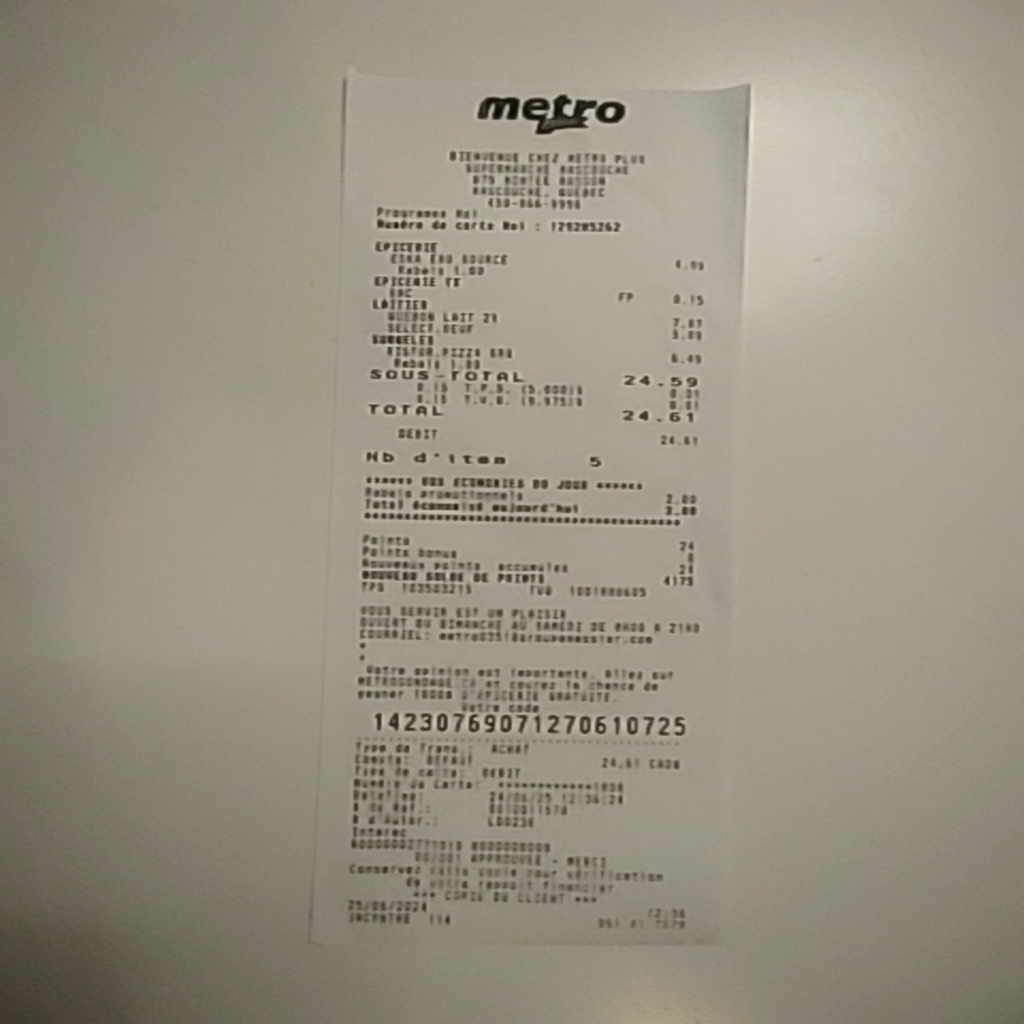recipt: (311, 69, 747, 949)
